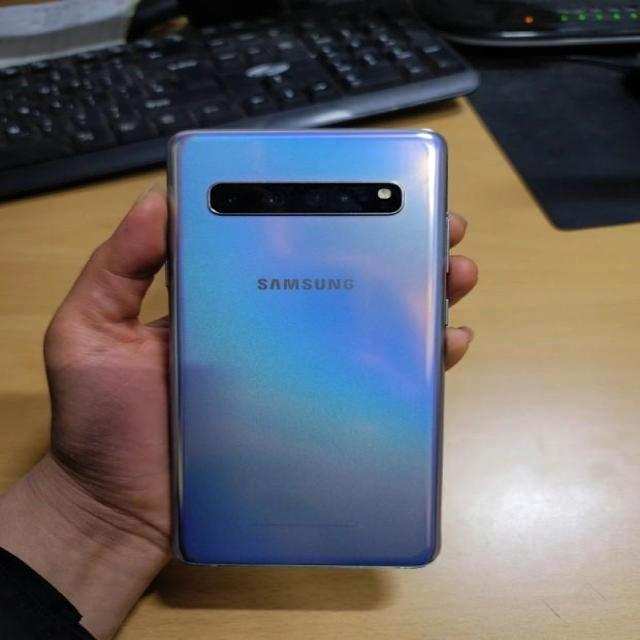phone: (162, 126, 446, 564)
